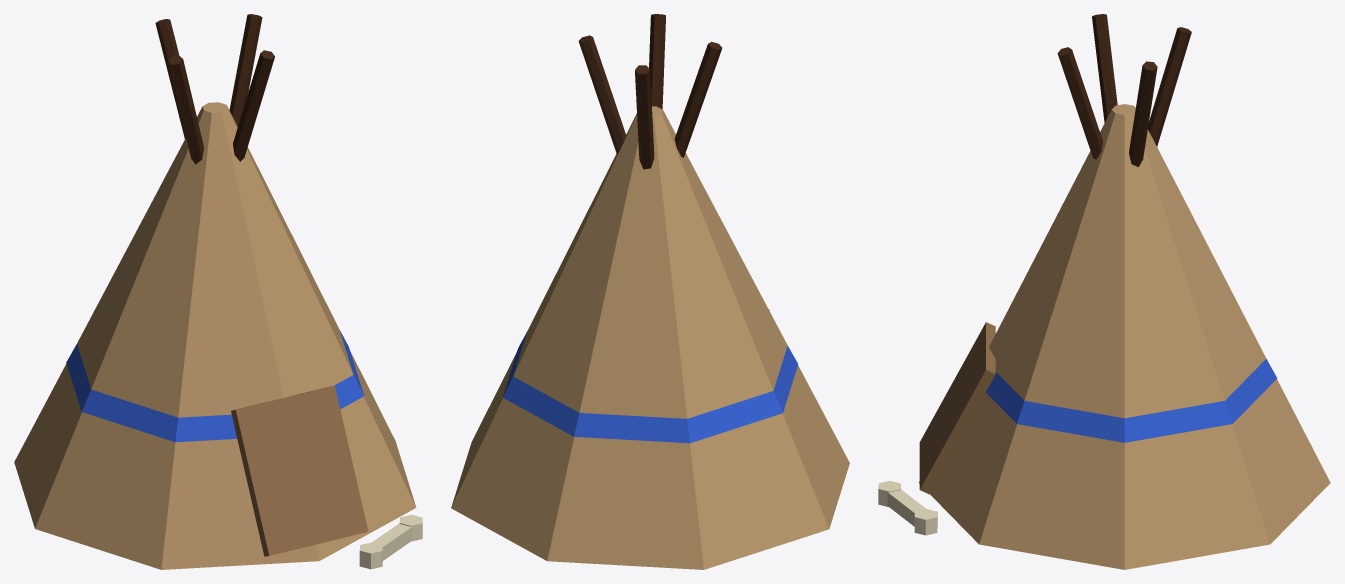
Rendered from Cottage.glb.
3 renders of one model, left to right at view 1: azimuth 30°, elevation 25°; view 2: azimuth 150°, elevation 25°; view 3: azimuth 270°, elevation 25°, orthographic.
Visible parts, largest first — view 1: Cottage; view 2: Cottage; view 3: Cottage.
Part boxes in pixels (<box>): Cottage: <box>14,14,422,569</box>; Cottage: <box>451,14,849,569</box>; Cottage: <box>878,14,1330,569</box>.
Bounding box in the file's own units: 1.73 × 2.06 × 1.9.
